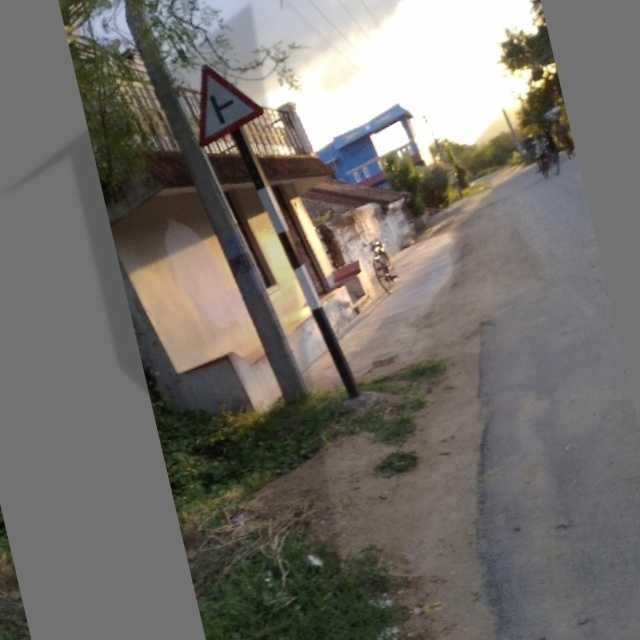Side_Road_Right: (177, 52, 278, 145)
